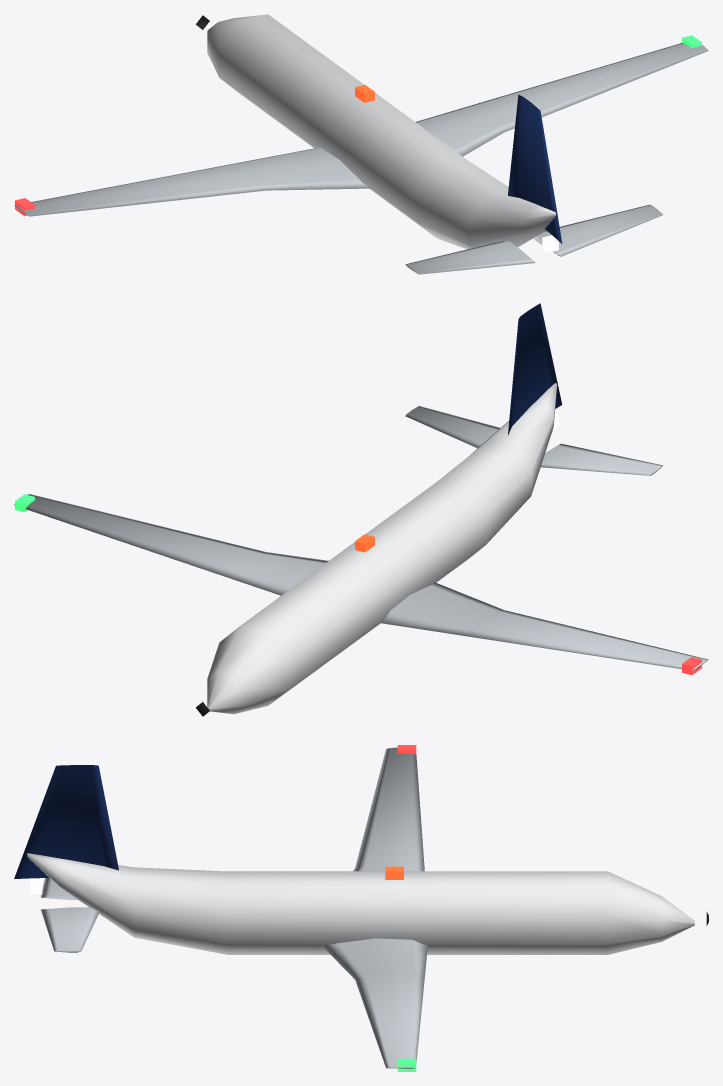
File: fleet_turboprop1_lod2.glb
The picture shows the model from 3 angles, top to bottom: view 1: azimuth 30°, elevation 25°; view 2: azimuth 150°, elevation 25°; view 3: azimuth 270°, elevation 25°; orthographic projection. The views are drawn at different scales.
Parts seen in each view (by area): view 1: fleet_turboprop1_lod2_white, fleet_turboprop1_lod2_wing, fleet_turboprop1_lod2_blue; view 2: fleet_turboprop1_lod2_white, fleet_turboprop1_lod2_wing, fleet_turboprop1_lod2_blue; view 3: fleet_turboprop1_lod2_white, fleet_turboprop1_lod2_wing, fleet_turboprop1_lod2_blue.
Part boxes in pixels (left/top/right/bottom): fleet_turboprop1_lod2_white: left=207, top=14, right=555, bottom=249; fleet_turboprop1_lod2_wing: left=14, top=43, right=708, bottom=274; fleet_turboprop1_lod2_blue: left=508, top=94, right=562, bottom=243; fleet_turboprop1_lod2_white: left=207, top=383, right=557, bottom=714; fleet_turboprop1_lod2_wing: left=14, top=406, right=708, bottom=670; fleet_turboprop1_lod2_blue: left=508, top=303, right=562, bottom=434; fleet_turboprop1_lod2_white: left=27, top=853, right=694, bottom=954; fleet_turboprop1_lod2_wing: left=41, top=747, right=427, bottom=1068; fleet_turboprop1_lod2_blue: left=14, top=765, right=118, bottom=878.
Size of the model in its own units: 16.3 by 4.34 by 14.99.
